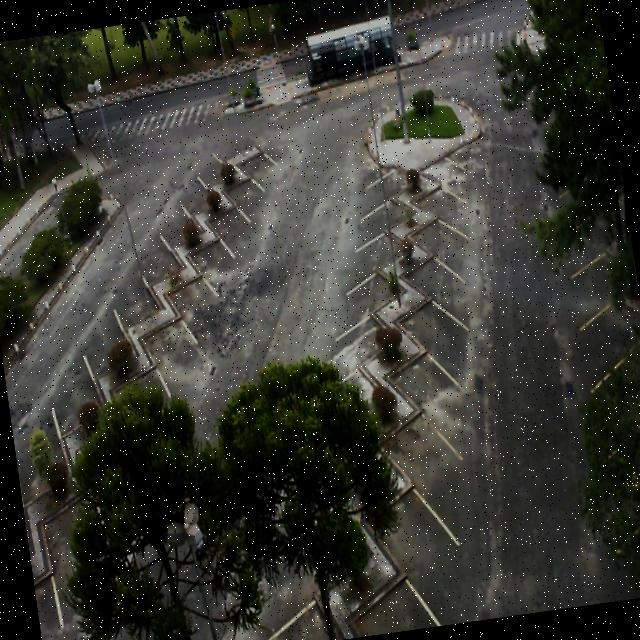empty: (367, 472, 468, 605), (376, 394, 465, 516), (347, 540, 441, 638), (388, 333, 468, 432), (239, 572, 351, 640), (40, 331, 104, 431), (387, 281, 463, 365), (70, 278, 136, 372), (316, 297, 394, 373), (398, 232, 469, 308), (136, 296, 197, 384), (102, 242, 162, 328), (336, 246, 404, 310), (163, 252, 217, 330), (334, 212, 404, 272), (405, 194, 468, 258), (180, 214, 234, 288), (131, 216, 186, 286), (412, 164, 473, 222), (355, 178, 417, 230), (204, 185, 255, 248), (154, 182, 202, 248), (217, 150, 267, 212), (421, 139, 478, 193), (189, 128, 237, 191), (354, 147, 413, 196), (174, 157, 221, 218), (235, 128, 278, 188)
